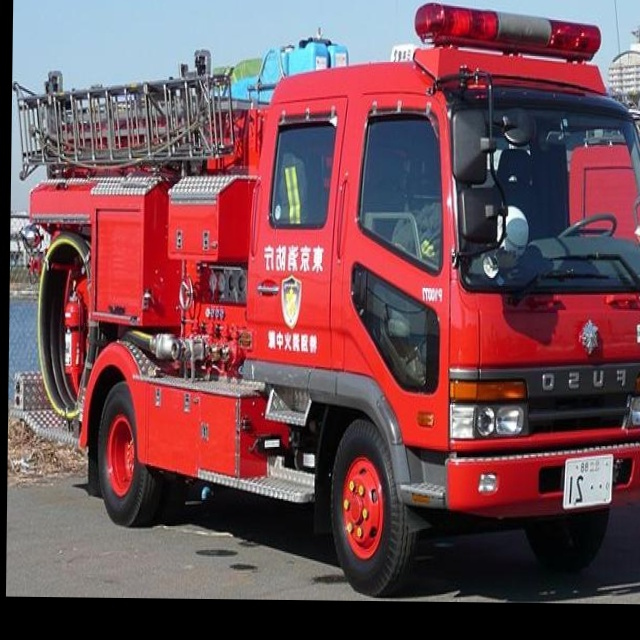Fire-truck: (9, 0, 640, 600)
